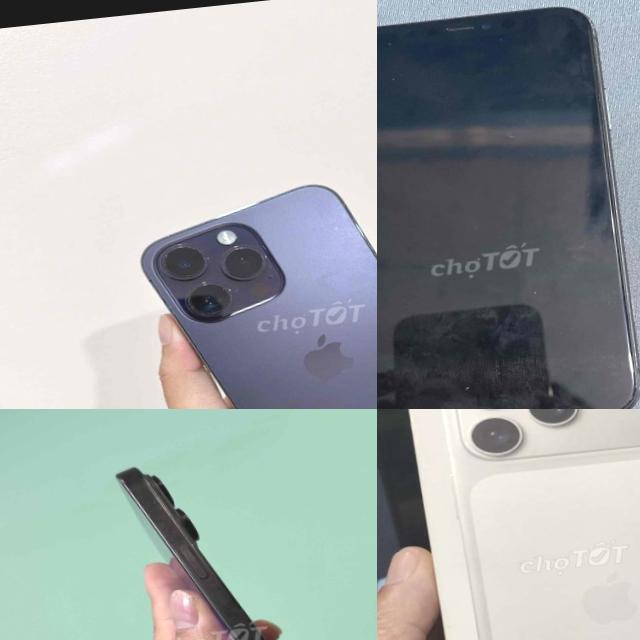gen_11: (377, 0, 640, 409)
gen_14: (130, 163, 377, 409)
gen_16: (116, 467, 270, 640)
gen_17: (428, 409, 640, 640)
